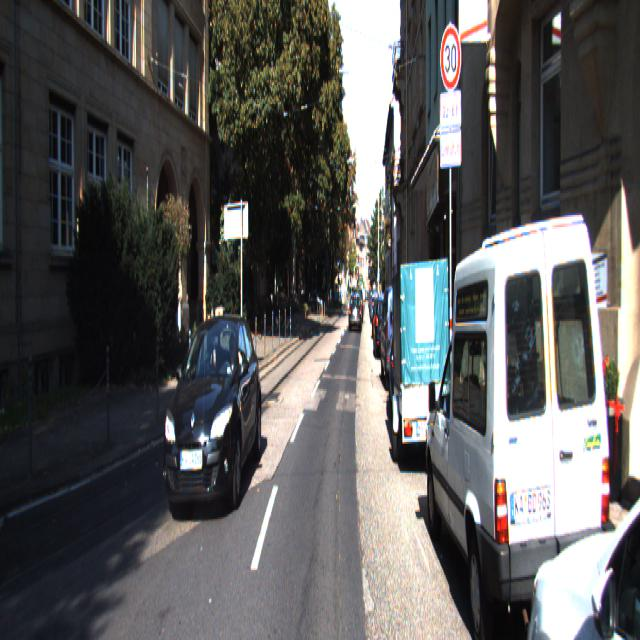Car: (424, 184, 616, 638), (518, 317, 639, 638), (162, 310, 264, 530), (389, 254, 454, 485), (387, 311, 431, 435), (379, 281, 415, 395), (373, 291, 396, 361), (348, 292, 362, 334)
